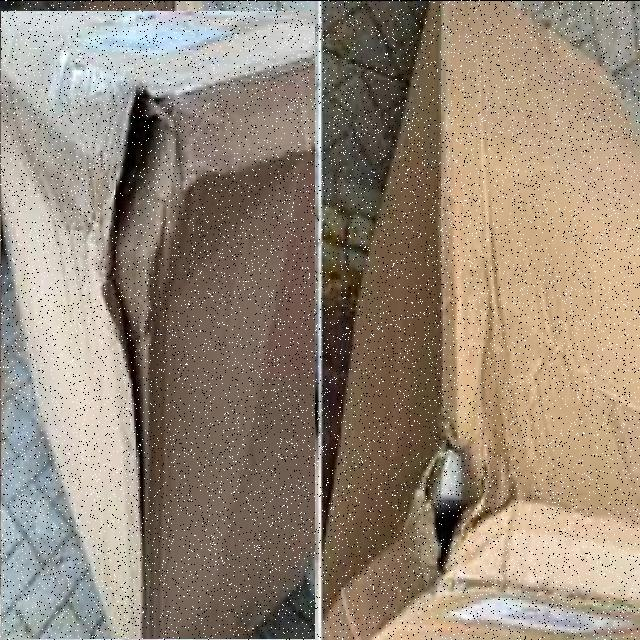defect: (318, 9, 636, 638), (2, 10, 316, 638)
